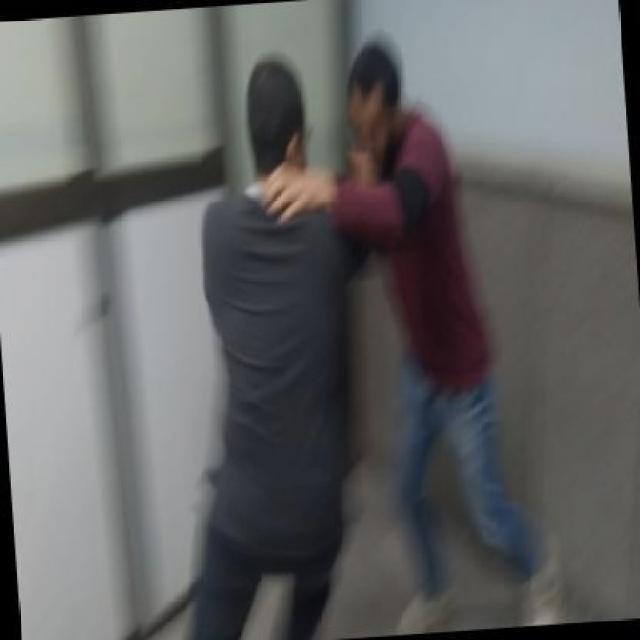fight: (181, 48, 556, 639)
